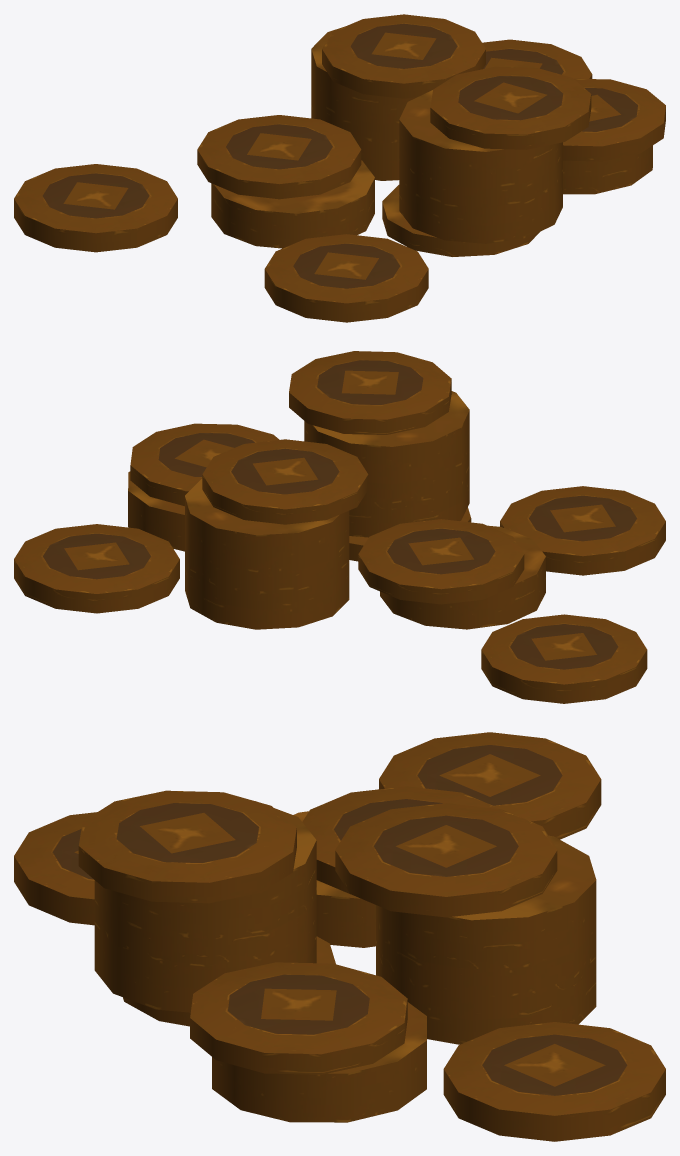
The model's file is Coin_Pile_2.glb.
The picture shows the model from 3 angles, top to bottom: view 1: azimuth 30°, elevation 25°; view 2: azimuth 150°, elevation 25°; view 3: azimuth 270°, elevation 25°; orthographic projection. The views are drawn at different scales.
Visible parts, largest first — view 1: Coin_Pile_2; view 2: Coin_Pile_2; view 3: Coin_Pile_2.
Part boxes in pixels (<box>): Coin_Pile_2: <box>14,14,665,322</box>; Coin_Pile_2: <box>14,351,665,703</box>; Coin_Pile_2: <box>14,732,665,1141</box>.
Bounding box in the file's own units: 0.2787 × 0.0585 × 0.2002.
Materials: 1 (1 with a texture image).
